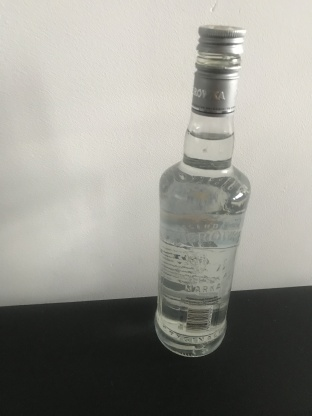nakretka: (189, 22, 248, 117)
